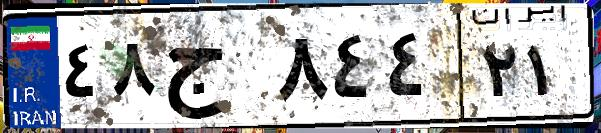1: (525, 38, 570, 115)
2: (475, 38, 525, 113)
4: (385, 28, 445, 110), (330, 28, 385, 110), (57, 26, 110, 100)
8: (270, 28, 330, 110), (110, 28, 158, 98)
ج: (158, 20, 270, 120)
